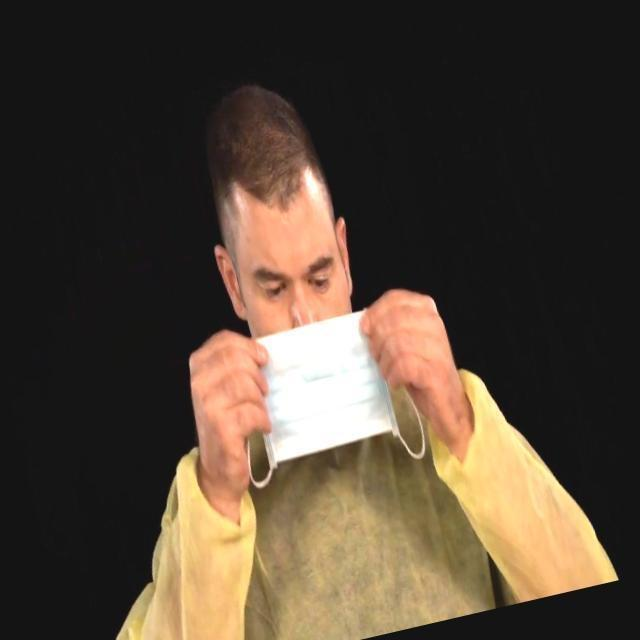mask: (262, 312, 424, 449)
no_gloves: (208, 76, 310, 209)
